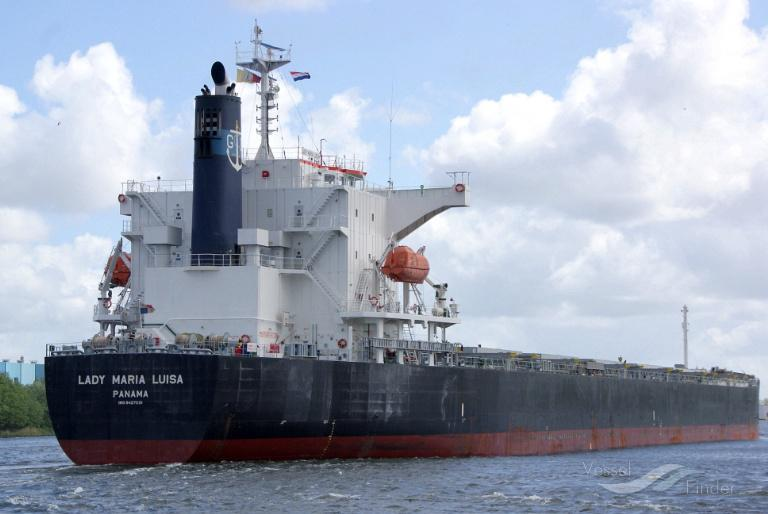OCR: (70, 366, 192, 398)
